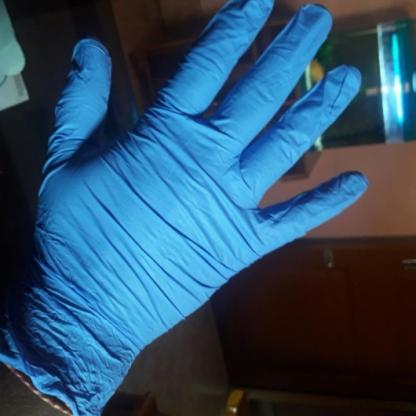gloved_hand: (0, 0, 368, 414)
